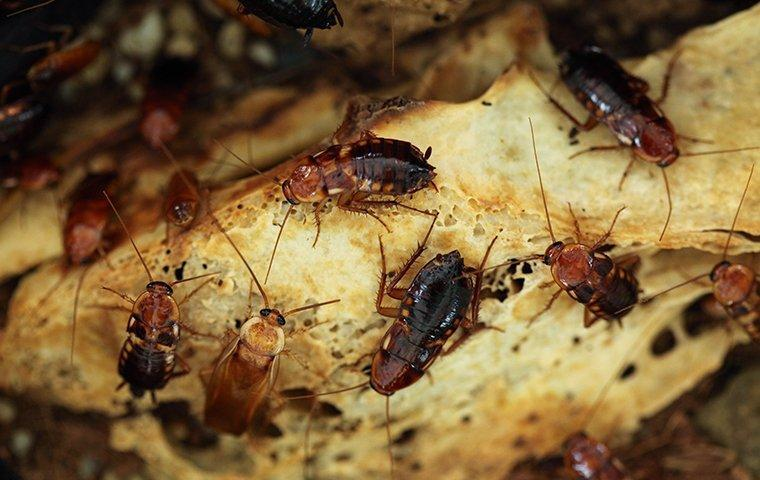cockroach: (368, 240, 484, 400), (550, 45, 683, 169), (268, 130, 440, 220), (199, 299, 292, 447), (538, 234, 642, 328), (118, 272, 186, 404), (61, 168, 120, 268), (705, 251, 760, 348), (26, 35, 105, 90), (554, 426, 629, 479), (162, 167, 200, 232)
